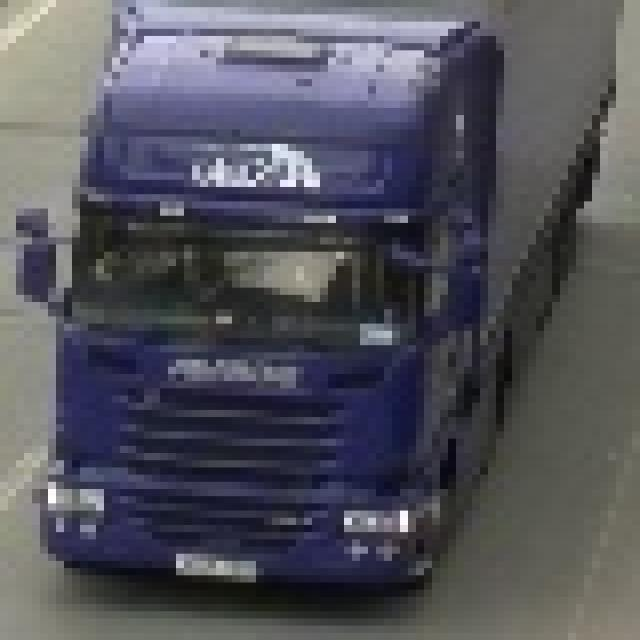TRUCK: (36, 0, 604, 604)
